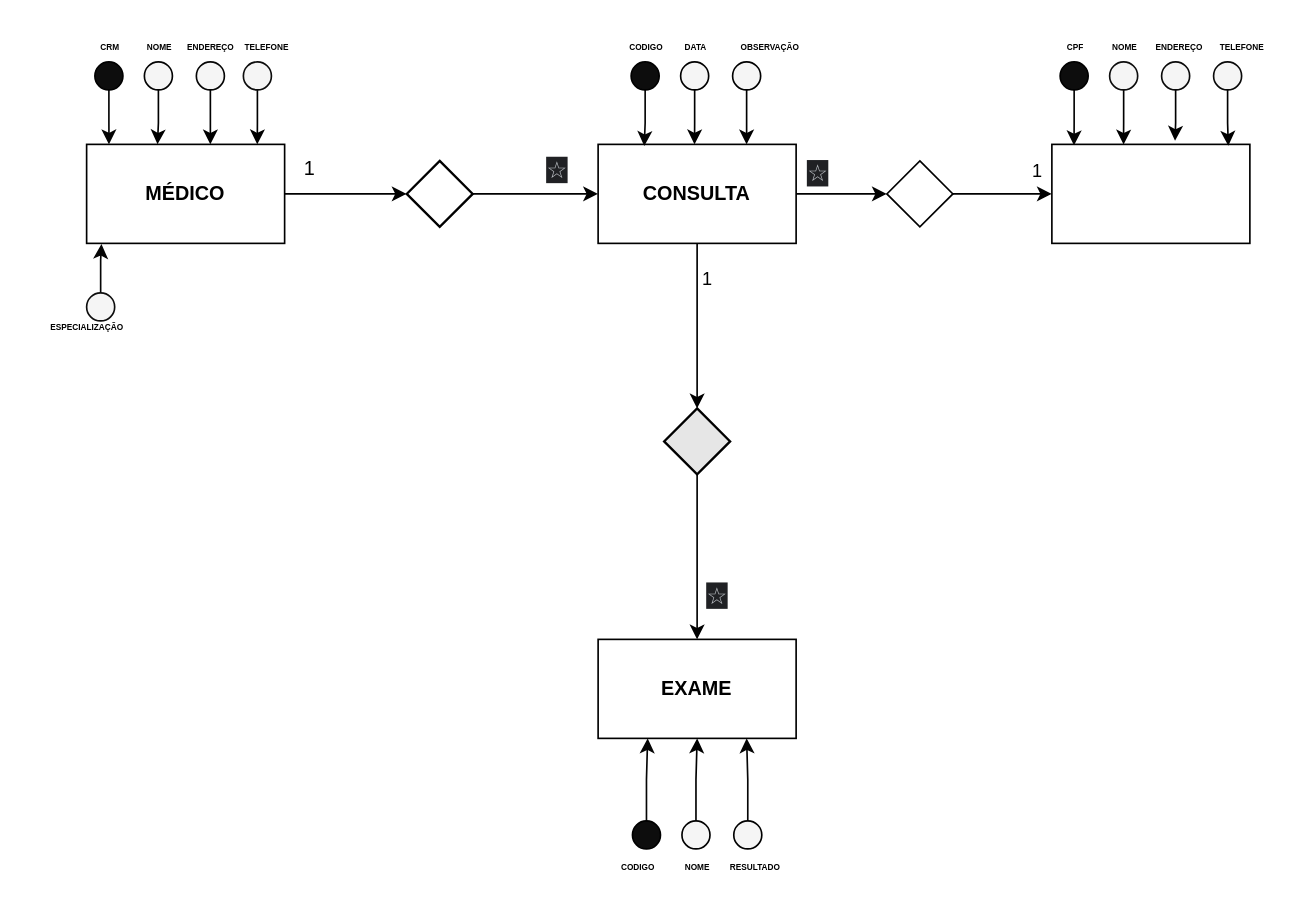
The diagram is 1310 pixels wide and 909 high, and some of its shapes have lost their labels. Here are the shapes that lost their labels. From the top down, the centre of each, then its label:
At point 439,193: "Realiza".
At point 1150,193: "PACIENTE".
